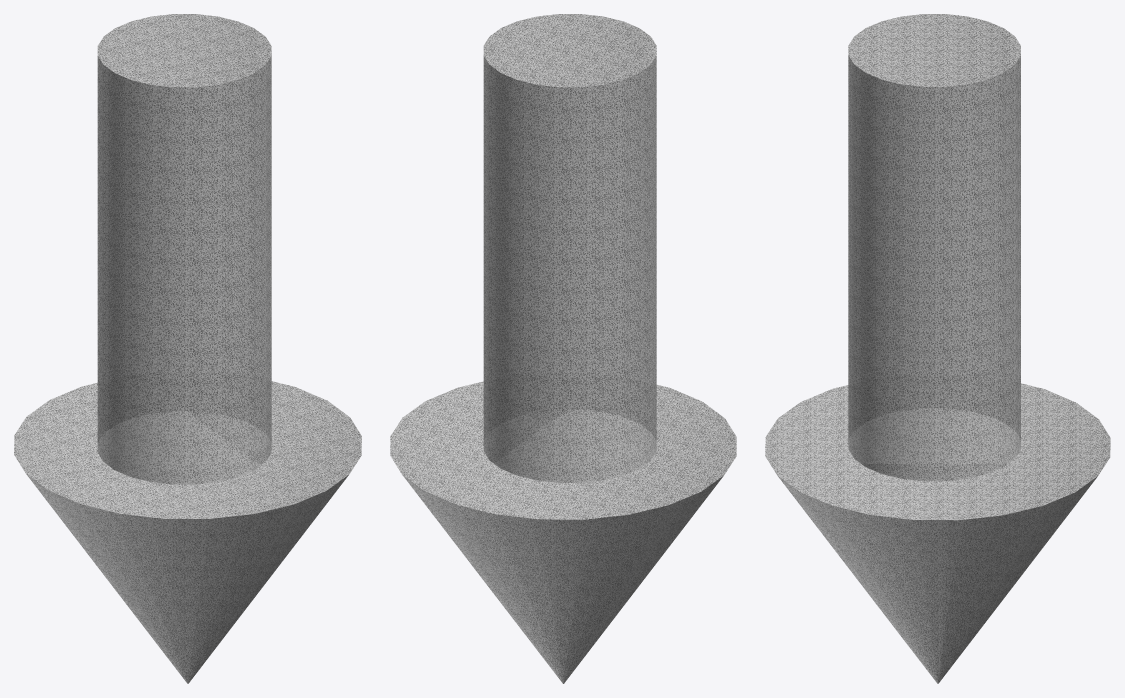
Rendered from eazo60htt5ka.obj.
The picture shows the model from 3 angles, left to right: view 1: azimuth 30°, elevation 25°; view 2: azimuth 150°, elevation 25°; view 3: azimuth 270°, elevation 25°; orthographic projection.
Parts seen in each view (by area): view 1: $ColladaAutoName$_0; view 2: $ColladaAutoName$_0; view 3: $ColladaAutoName$_0.
Part boxes in pixels (x1,y1,x2,y2): $ColladaAutoName$_0: (14, 14, 361, 683); $ColladaAutoName$_0: (390, 14, 736, 683); $ColladaAutoName$_0: (765, 14, 1110, 683).
Size of the model in its own units: 3.17 by 6.4 by 3.17.
2 materials, 2 textured.
